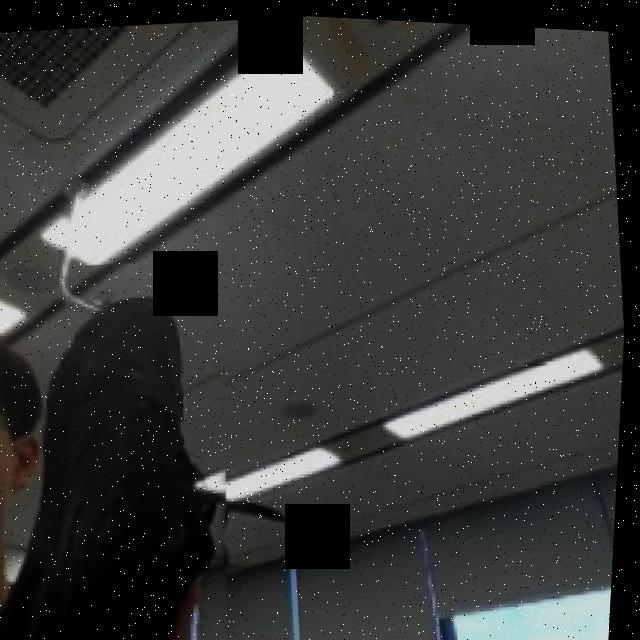shoe: (27, 247, 269, 640)
